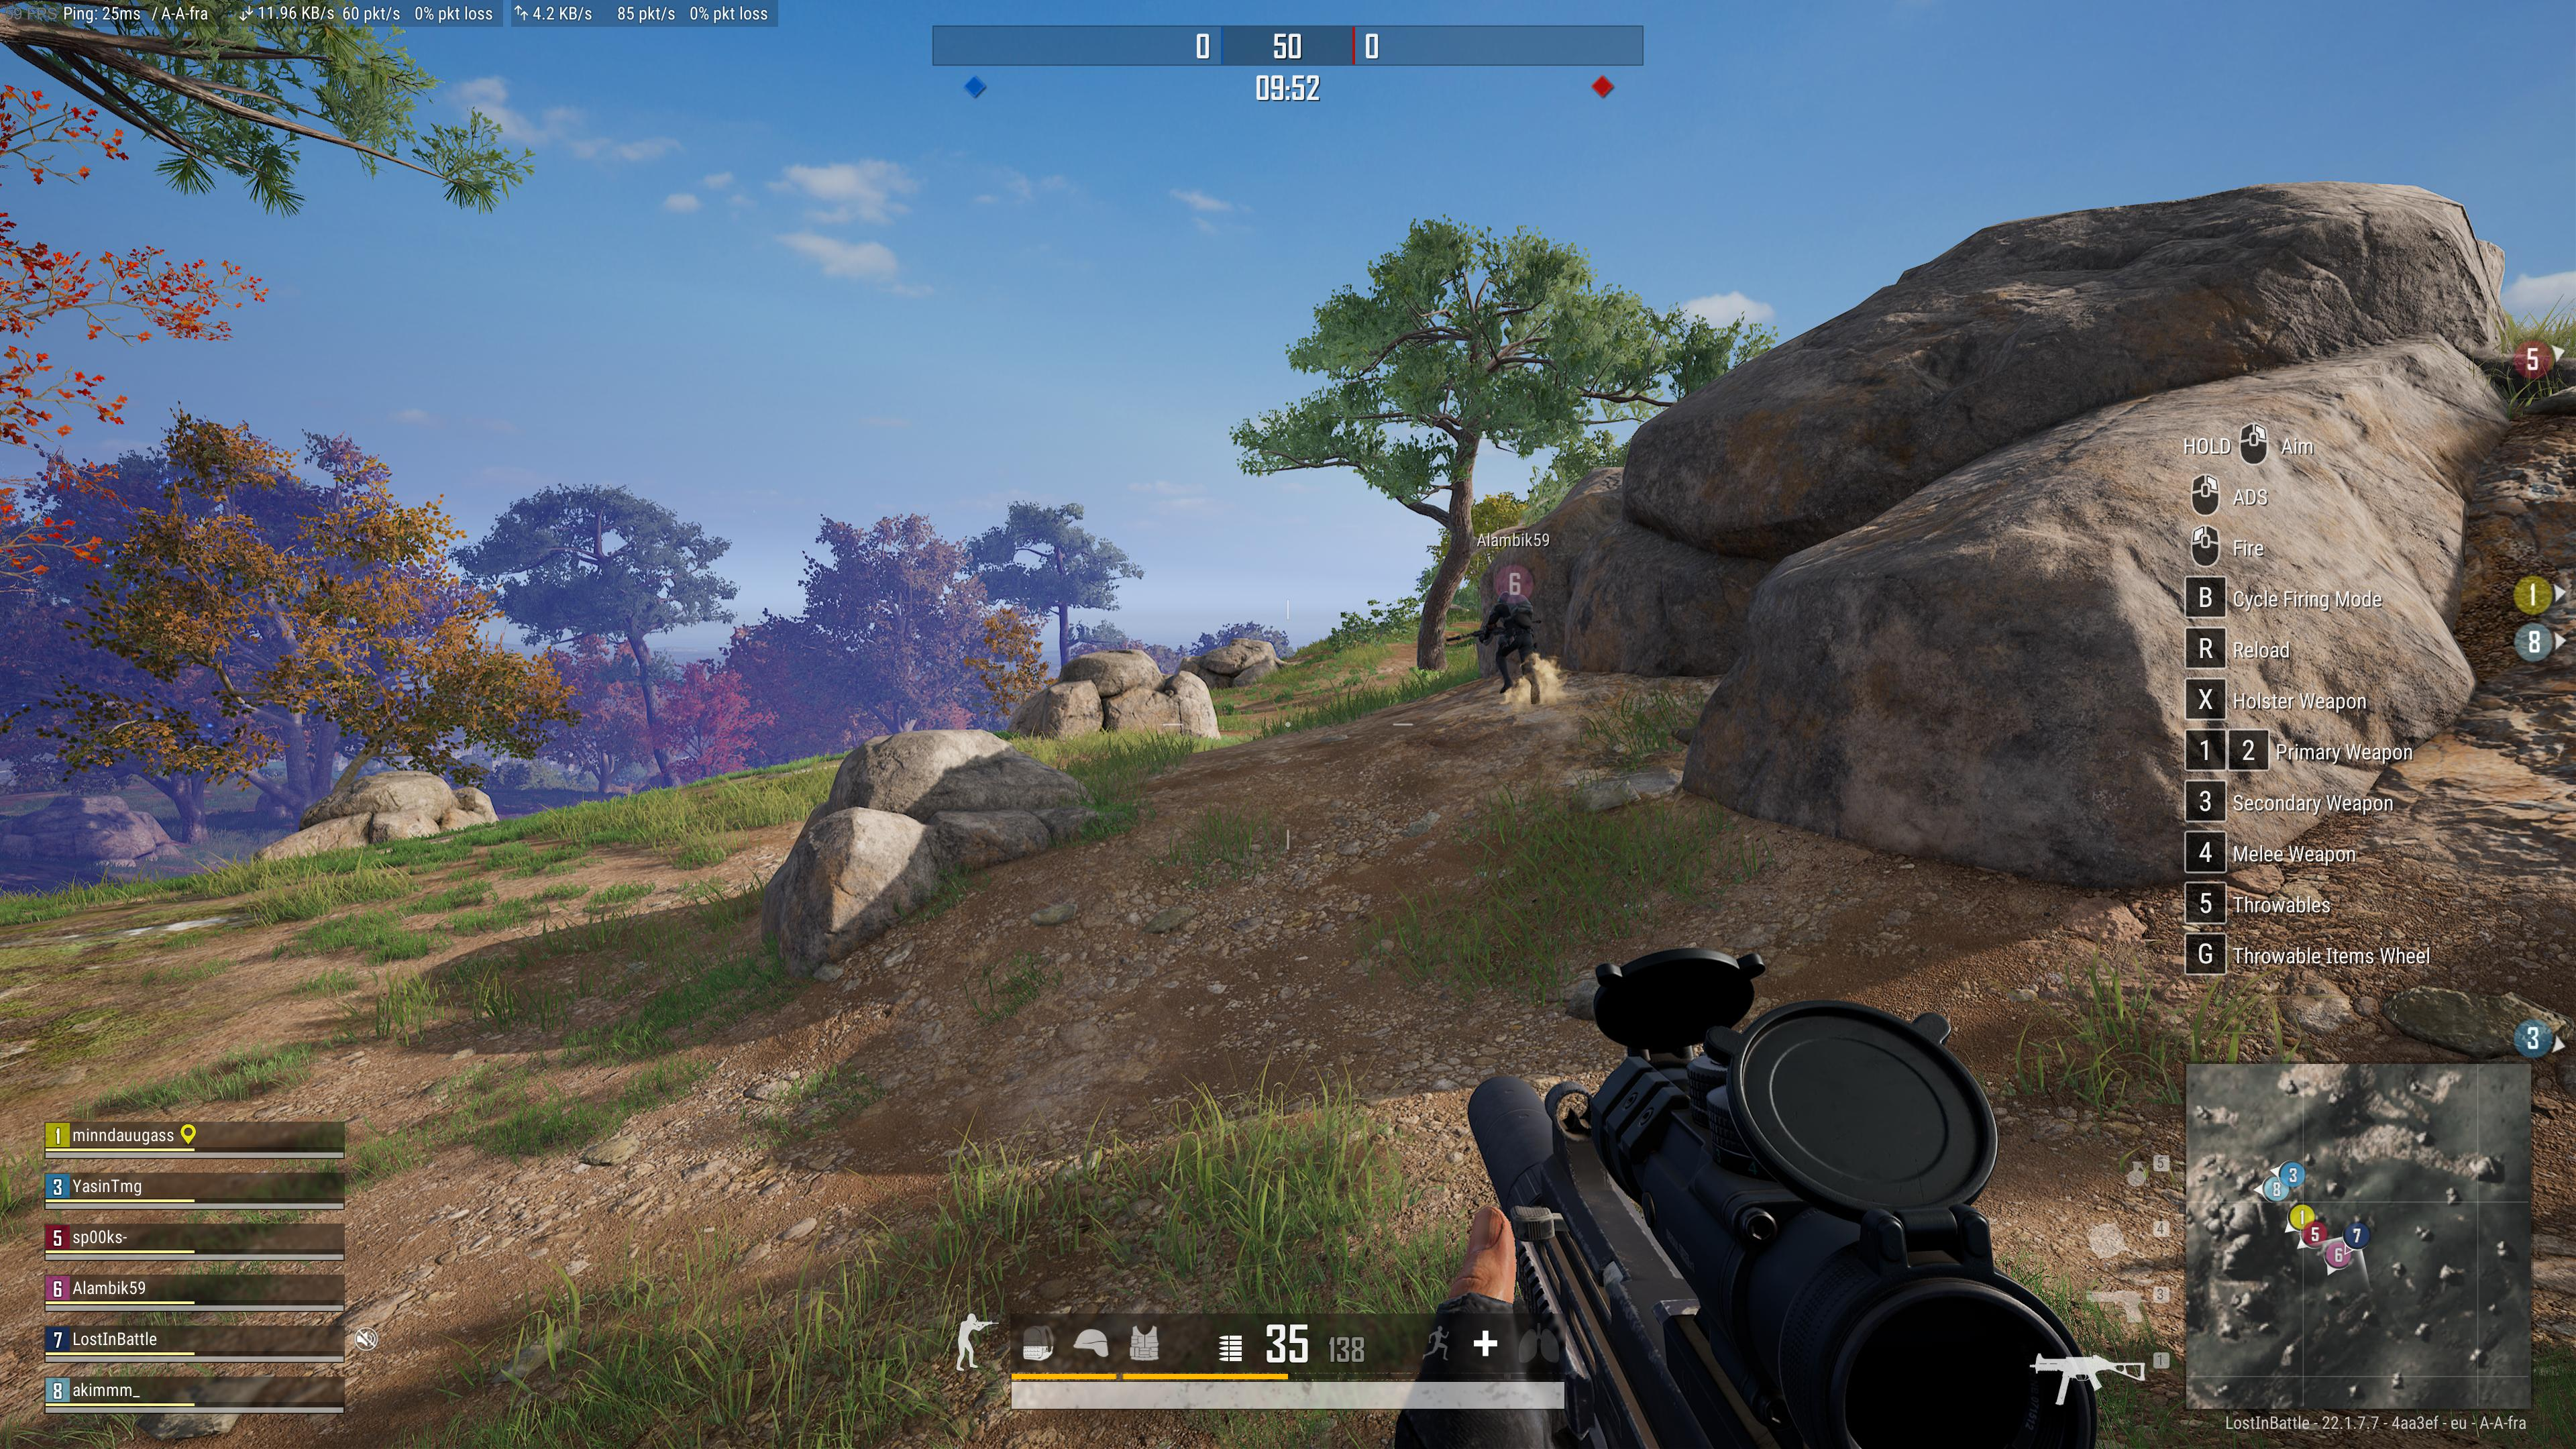friendly: (1479, 573, 1546, 706)
